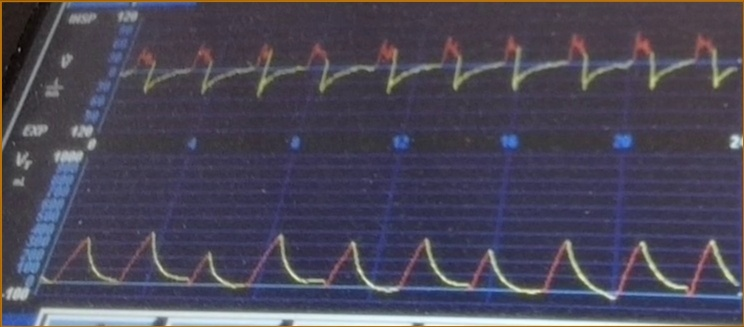Accumulation Flow: (136, 28, 736, 127)
Volume: (60, 226, 736, 306)
